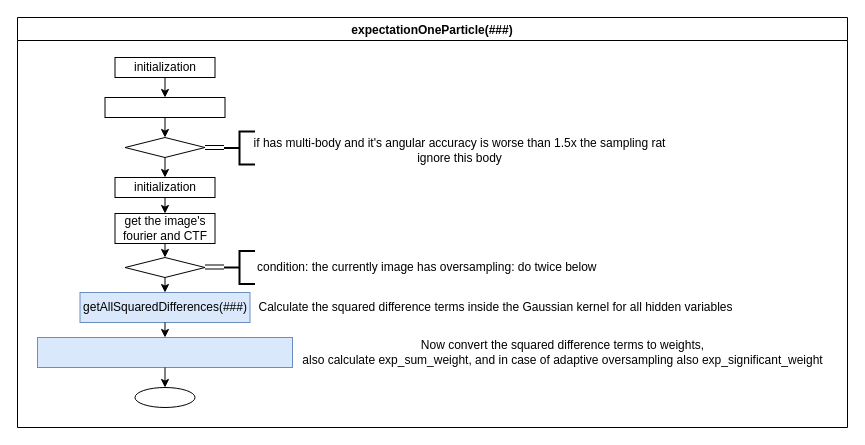
Some shapes in this 865 by 445 pixel diagram are drawn without their labels. The shapes that lost their labels are listed below. From the top down, each one's centre as x and y in pixels, then its label:
the point at 164,107: deal with multi-body
the point at 164,352: convertAllSquaredDifferencesToWeights(###)
the point at 164,397: over
